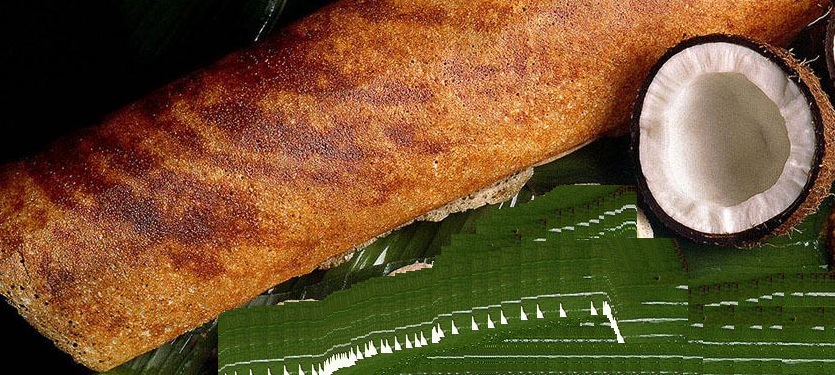dosa: (7, 2, 834, 371)
